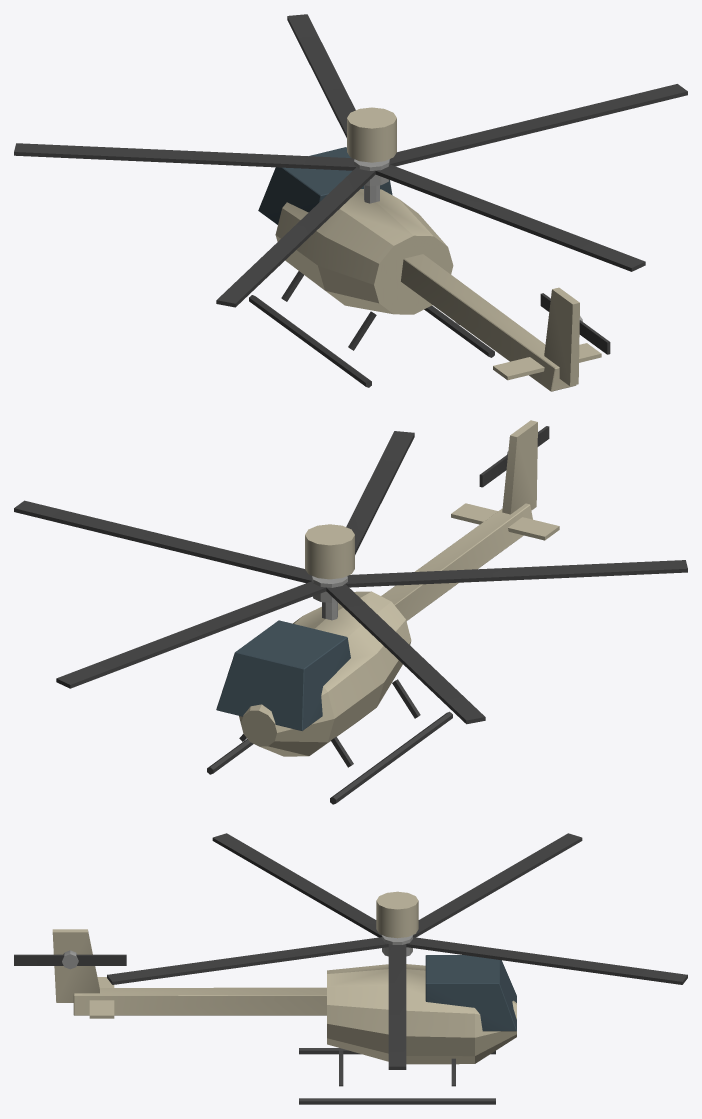
The model's file is usa_heli_oh58.glb.
The picture shows the model from 3 angles, top to bottom: view 1: azimuth 30°, elevation 25°; view 2: azimuth 150°, elevation 25°; view 3: azimuth 270°, elevation 25°; orthographic projection. The views are drawn at different scales.
Visible parts, largest first — view 1: body, rotor, trotor; view 2: body, rotor, trotor; view 3: body, rotor, trotor.
Part boxes in pixels (x1,y1,x2,y2): body: [249, 107, 601, 391]; rotor: [14, 14, 687, 307]; trotor: [540, 293, 610, 354]; body: [207, 420, 559, 804]; rotor: [14, 431, 687, 724]; trotor: [479, 426, 549, 487]; body: [52, 891, 516, 1104]; rotor: [107, 833, 687, 1069]; trotor: [14, 950, 126, 969].
Bounding box in the file's own units: 7.85 × 2.81 × 9.58.
